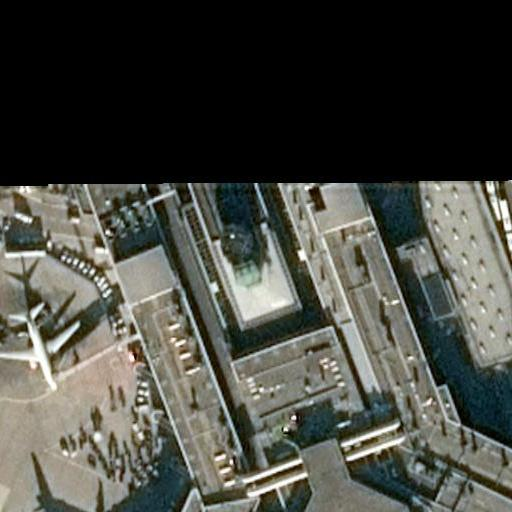Aircraft: (0, 300, 84, 393), (41, 504, 139, 512)
